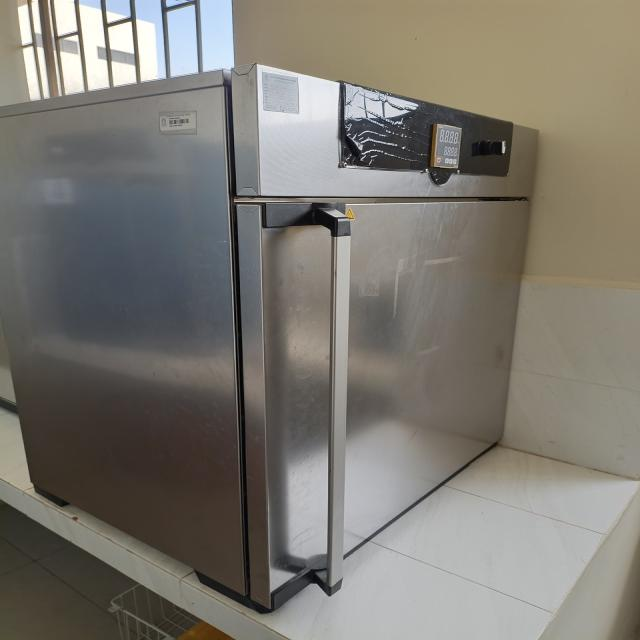Stufa de Laboratorio de Conveccion: (0, 64, 536, 612)
